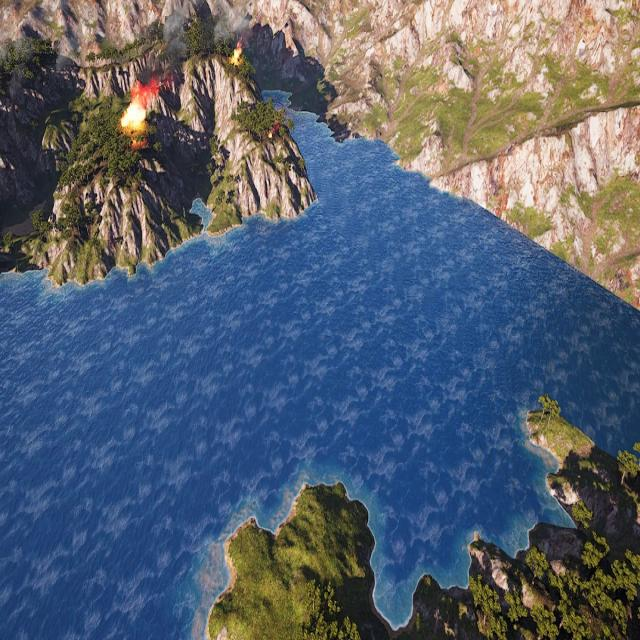fire: (121, 83, 157, 136), (228, 42, 244, 66)
smoke: (212, 3, 251, 52), (162, 7, 188, 58)
